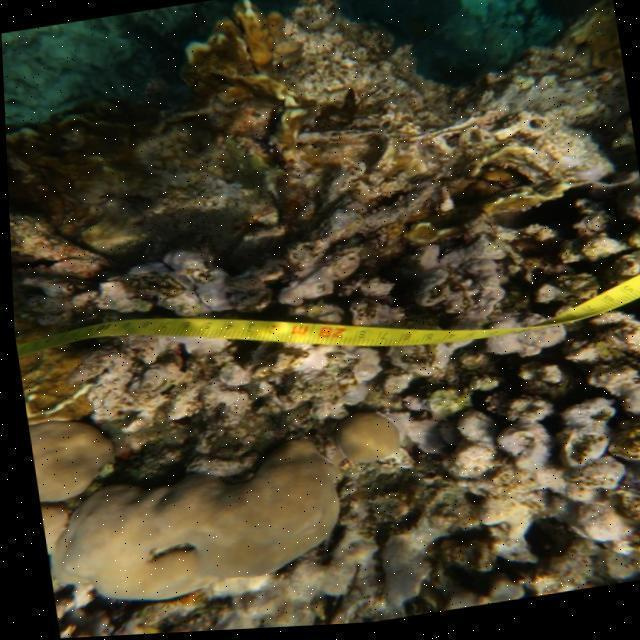Healthy Coral: (30, 431, 341, 617), (23, 406, 131, 515), (322, 406, 425, 476)
